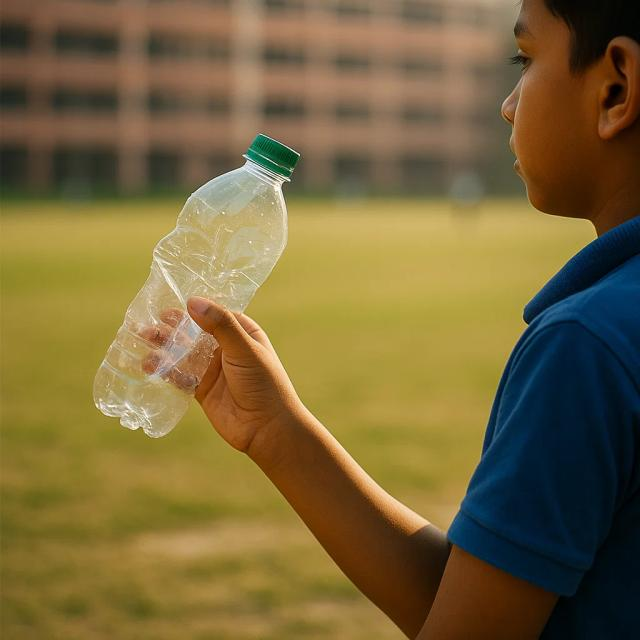plastic: (99, 133, 303, 440)
